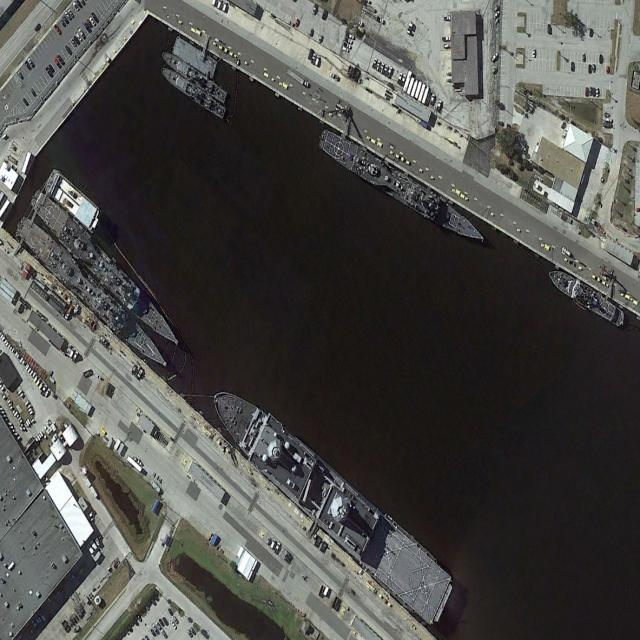Auxiliary Ships: (204, 365, 457, 631)
Frigate: (11, 210, 174, 378), (28, 183, 186, 352), (316, 124, 489, 249)
Other Warship: (544, 264, 626, 329), (160, 47, 229, 106), (159, 63, 227, 121)
